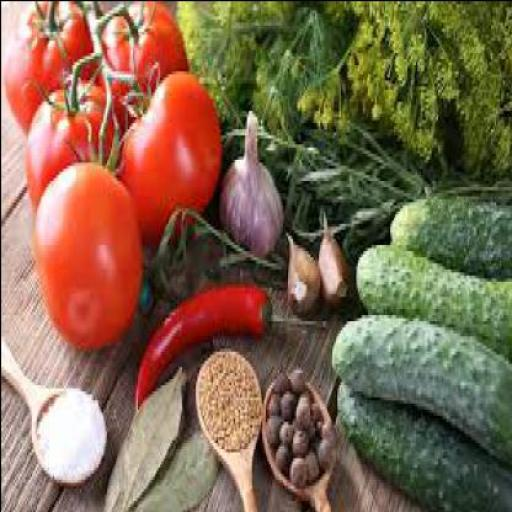biodegradable: (301, 0, 510, 172), (331, 310, 511, 464), (34, 106, 143, 344), (288, 128, 511, 242), (337, 374, 511, 511), (136, 287, 328, 405), (357, 238, 511, 364), (177, 0, 336, 118), (121, 67, 225, 244), (25, 72, 121, 210), (390, 188, 511, 288), (5, 1, 100, 128), (106, 360, 186, 510), (96, 1, 190, 128), (222, 103, 286, 256), (133, 430, 220, 509), (38, 387, 108, 478), (201, 351, 259, 448), (320, 204, 352, 308), (287, 228, 321, 311), (154, 207, 184, 296), (172, 222, 208, 264), (200, 247, 242, 280), (290, 454, 309, 488), (280, 387, 297, 420), (321, 436, 336, 469), (306, 445, 320, 478), (266, 384, 280, 415), (294, 420, 308, 451), (319, 418, 338, 440), (298, 394, 311, 426), (290, 366, 307, 390), (277, 442, 292, 469), (265, 411, 278, 442), (274, 368, 292, 390), (280, 414, 294, 436), (310, 414, 316, 439), (312, 400, 322, 414), (316, 414, 323, 433)
